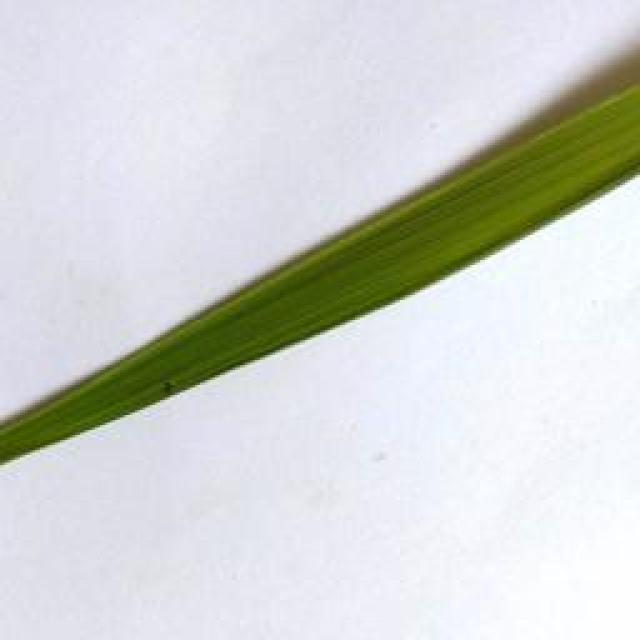Healthy-Plant: (0, 70, 640, 478)
